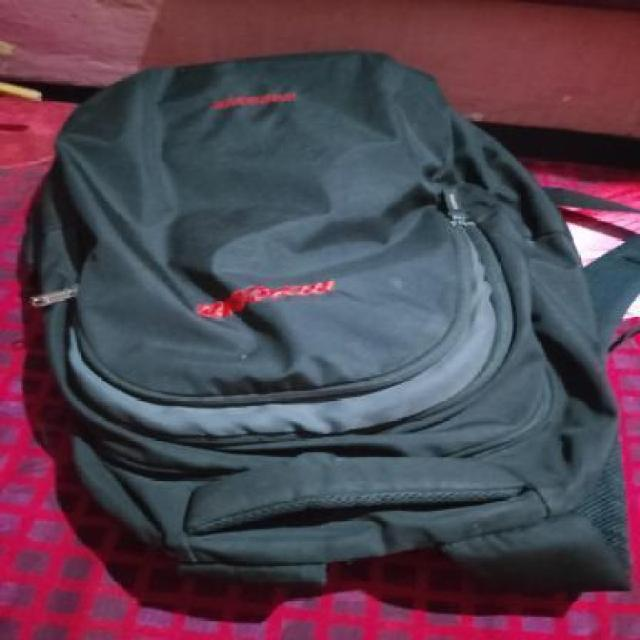backpack: (15, 46, 640, 600)
